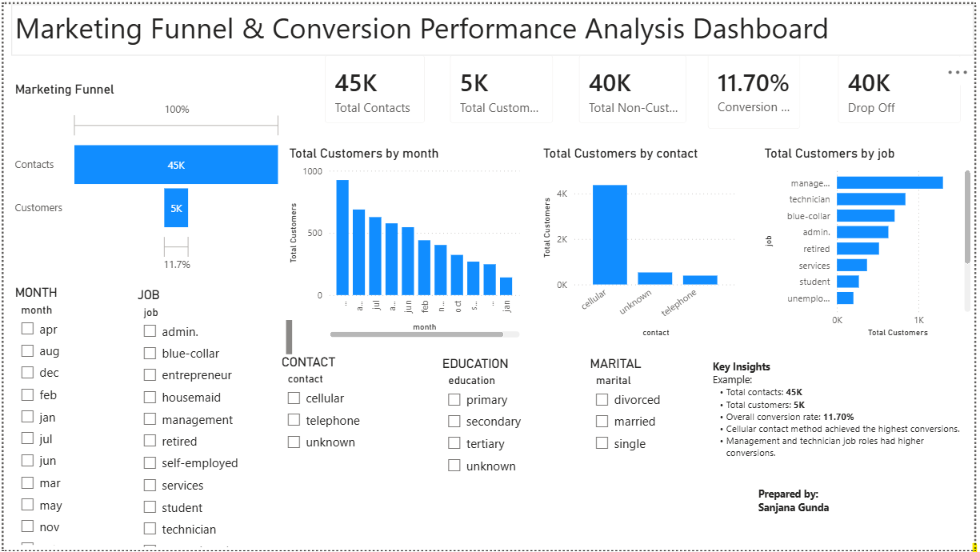

Layout of this report page (visuals, bound fields, positions):
{"tool":"powerbi","page":{"name":"Page 1","canvas":[1280,720],"ordinal":0},"visuals":[{"type":"cardVisual","fields":{"Data":["bank-full.Total Contacts"]},"box":[406,50,166,124],"z":0},{"type":"cardVisual","fields":{"Data":["bank-full.Total Customers"]},"box":[572,50,170,124],"z":1},{"type":"cardVisual","fields":{"Data":["bank-full.Total Non-Customers"]},"box":[742,50,176,124],"z":2},{"type":"cardVisual","fields":{"Data":["bank-full.Conversion Rate"]},"box":[912,42,156,140],"z":3},{"type":"cardVisual","fields":{"Data":["bank-full.Drop Off"]},"box":[1084,50,196,124],"z":4},{"type":"funnel","title":"Marketing Funnel","fields":{"Category":["Funnel Stage.Stage"],"Y":["Funnel Stage.Funnel Value"]},"box":[10,102,362,258],"z":5},{"type":"clusteredColumnChart","fields":{"Category":["bank-full.contact"],"Y":["bank-full.Total Customers"]},"box":[706,186,266,258],"z":6},{"type":"clusteredColumnChart","fields":{"Category":["bank-full.month"],"Y":["bank-full.Total Customers"]},"box":[372,186,314,258],"z":7},{"type":"barChart","fields":{"Category":["bank-full.job"],"Y":["bank-full.Total Customers"]},"box":[998,186,282,258],"z":8},{"type":"slicer","title":"MONTH","fields":{"Values":["bank-full.month"]},"box":[10,370,182,348],"z":9},{"type":"slicer","title":"JOB","fields":{"Values":["bank-full.job"]},"box":[171.2,372.5,213.8,347.5],"z":10},{"type":"slicer","title":"EDUCATION","fields":{"Values":["bank-full.education"]},"box":[572.5,463.8,161.2,206.2],"z":11},{"type":"slicer","title":"MARITAL","fields":{"Values":["bank-full.marital"]},"box":[767.5,463.8,162.5,206.2],"z":12},{"type":"slicer","title":"CONTACT","fields":{"Values":["bank-full.contact"]},"box":[361.2,461.2,201.2,256.2],"z":13},{"type":"textbox","box":[10,0,1270,68],"z":14},{"type":"textbox","box":[930,463.8,350,167.5],"z":15},{"type":"textbox","box":[990,631.2,177.5,86.2],"z":16}]}

Visuals, with their boxes in screenshot pixels (x1, y1, x2, y2), scaled from the page's 1280x720 canvas onto the 980x552 screenshot:
cardVisual - bank-full.Total Contacts: BBox(311, 38, 438, 133)
cardVisual - bank-full.Total Customers: BBox(438, 38, 568, 133)
cardVisual - bank-full.Total Non-Customers: BBox(568, 38, 703, 133)
cardVisual - bank-full.Conversion Rate: BBox(698, 32, 818, 140)
cardVisual - bank-full.Drop Off: BBox(830, 38, 979, 133)
"Marketing Funnel" funnel: BBox(8, 78, 285, 276)
clusteredColumnChart - bank-full.contact x bank-full.Total Customers: BBox(541, 143, 744, 340)
clusteredColumnChart - bank-full.month x bank-full.Total Customers: BBox(285, 143, 525, 340)
barChart - bank-full.job x bank-full.Total Customers: BBox(764, 143, 979, 340)
"MONTH" slicer: BBox(8, 284, 147, 550)
"JOB" slicer: BBox(131, 286, 295, 551)
"EDUCATION" slicer: BBox(438, 356, 562, 514)
"MARITAL" slicer: BBox(588, 356, 712, 514)
"CONTACT" slicer: BBox(277, 354, 431, 550)
textbox: BBox(8, 0, 979, 52)
textbox: BBox(712, 356, 979, 484)
textbox: BBox(758, 484, 894, 550)
